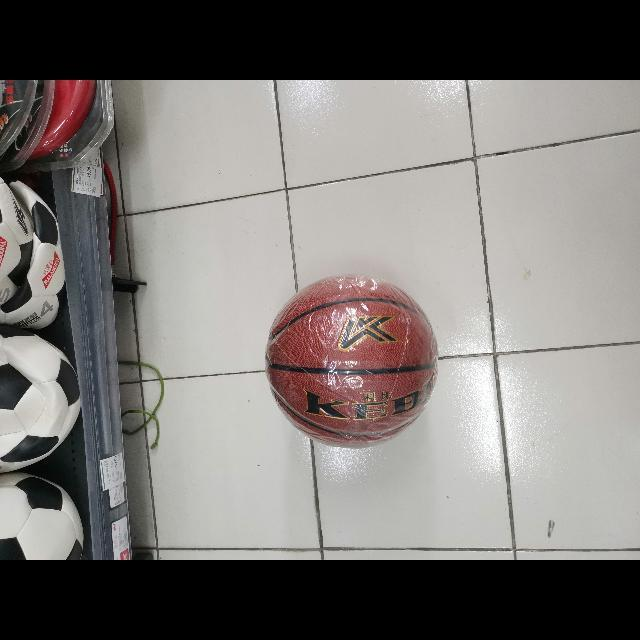basketball: (266, 278, 438, 447)
